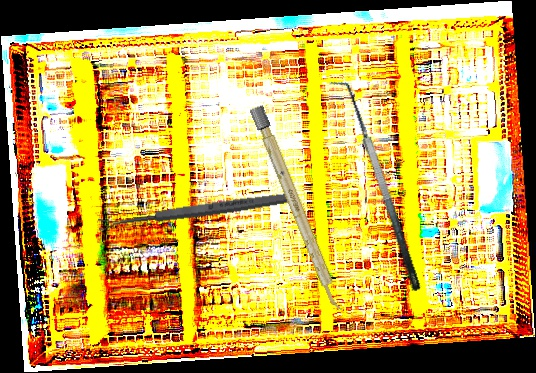Scalpel Handle: (249, 104, 345, 314)
Spatula Surgical: (328, 73, 423, 298)
Surgical Spoon: (97, 189, 299, 232)
